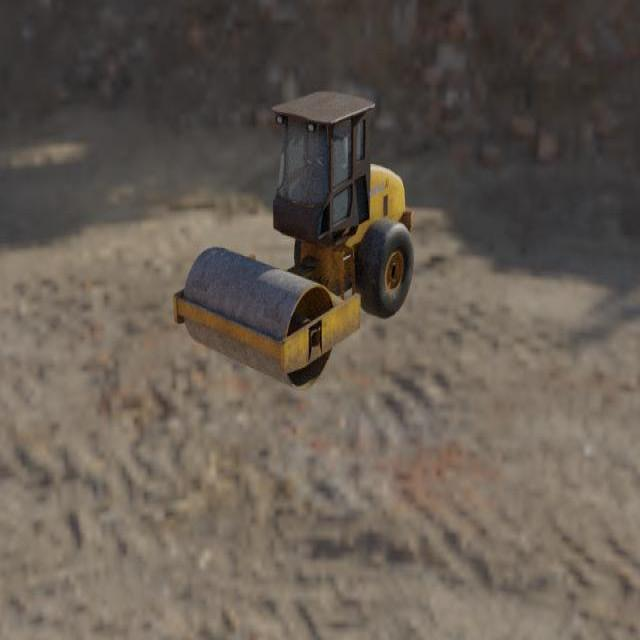Roller: (172, 89, 414, 391)
